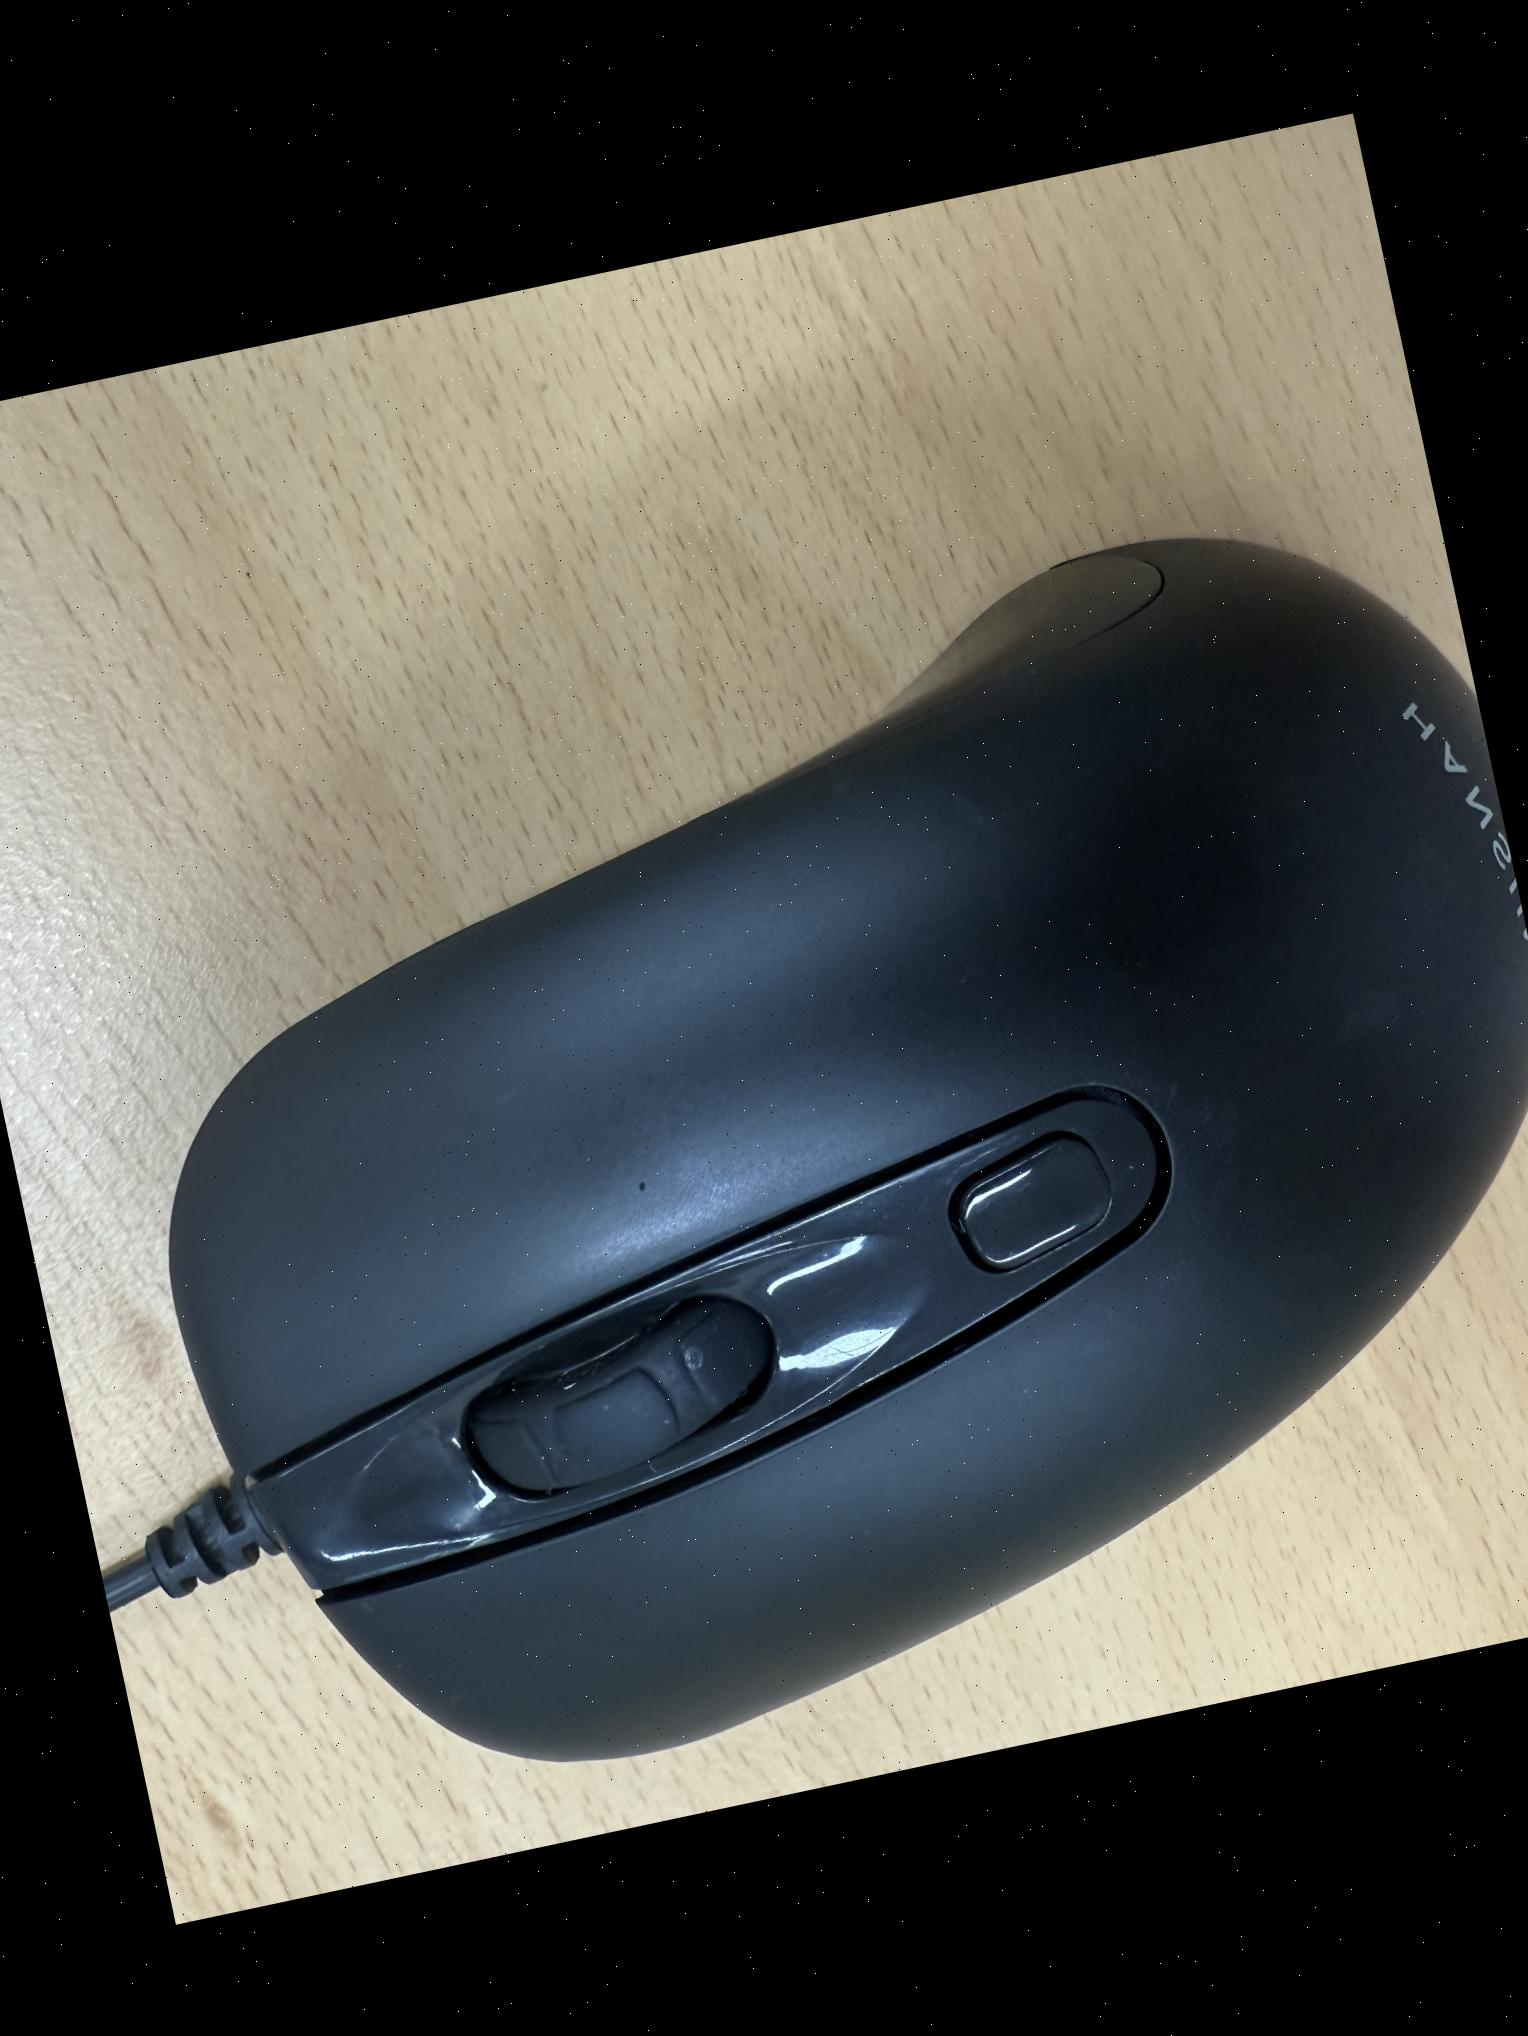front: (56, 472, 1528, 1832)
